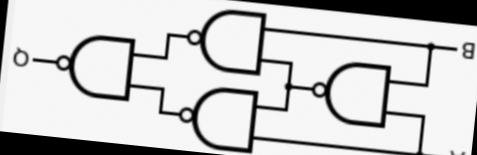nand: (178, 0, 270, 79), (46, 26, 138, 105), (303, 52, 395, 130), (170, 79, 262, 155)
